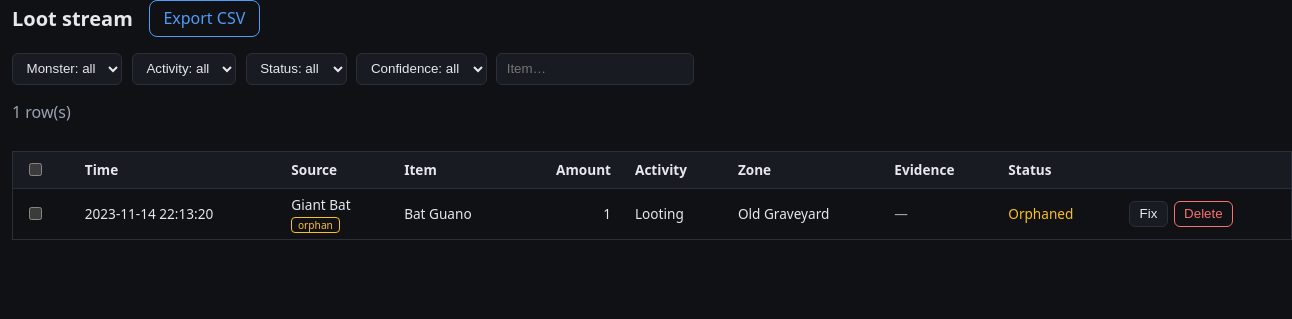
it: LootPage › applies an override to the visible row without a reload
Step 1. Click the button "Fix" → coordinates (1148, 214), box 1129,201 -> 1168,227
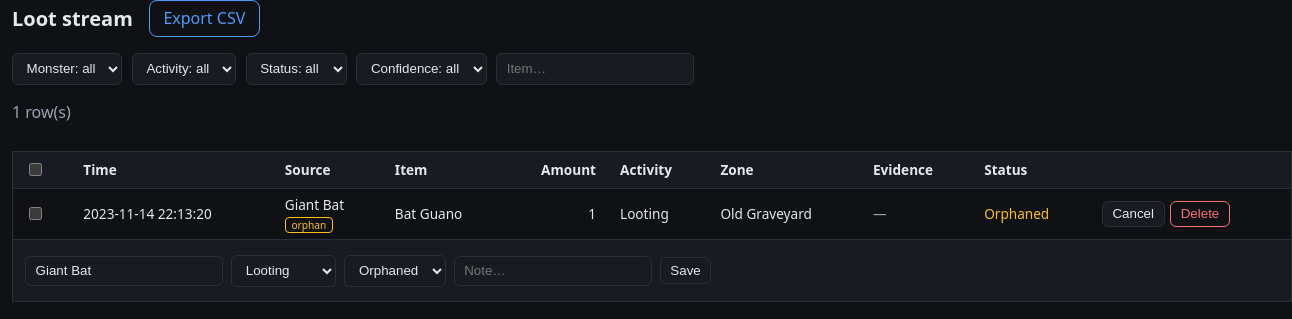
Step 2. Select "Linked" in the 6th dropdown → coordinates (395, 271), box 344,255 -> 446,286
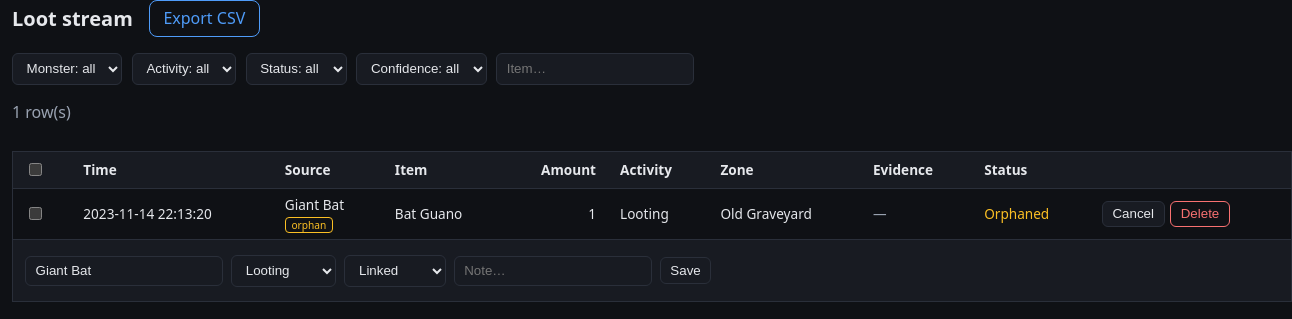
Step 3. Click the button "Save" → coordinates (686, 271), box 660,257 -> 711,284
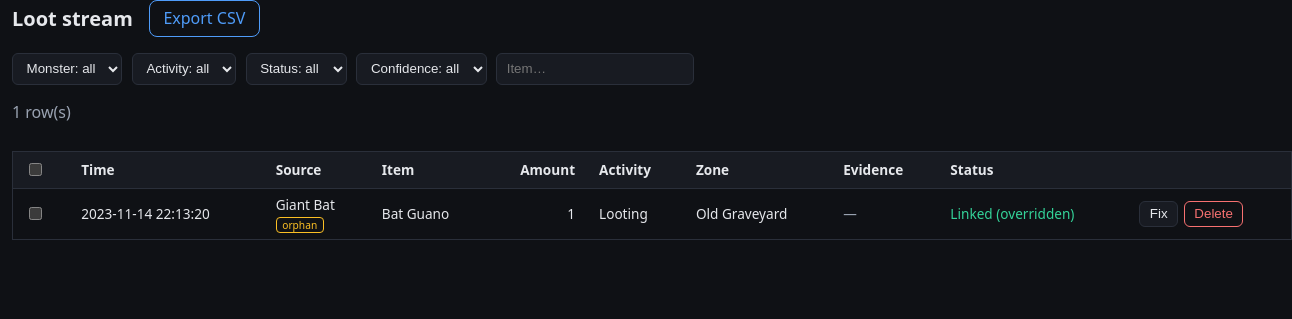
expect the text "Linked (overridden)" is shown: met, box 950,204 -> 1074,224
